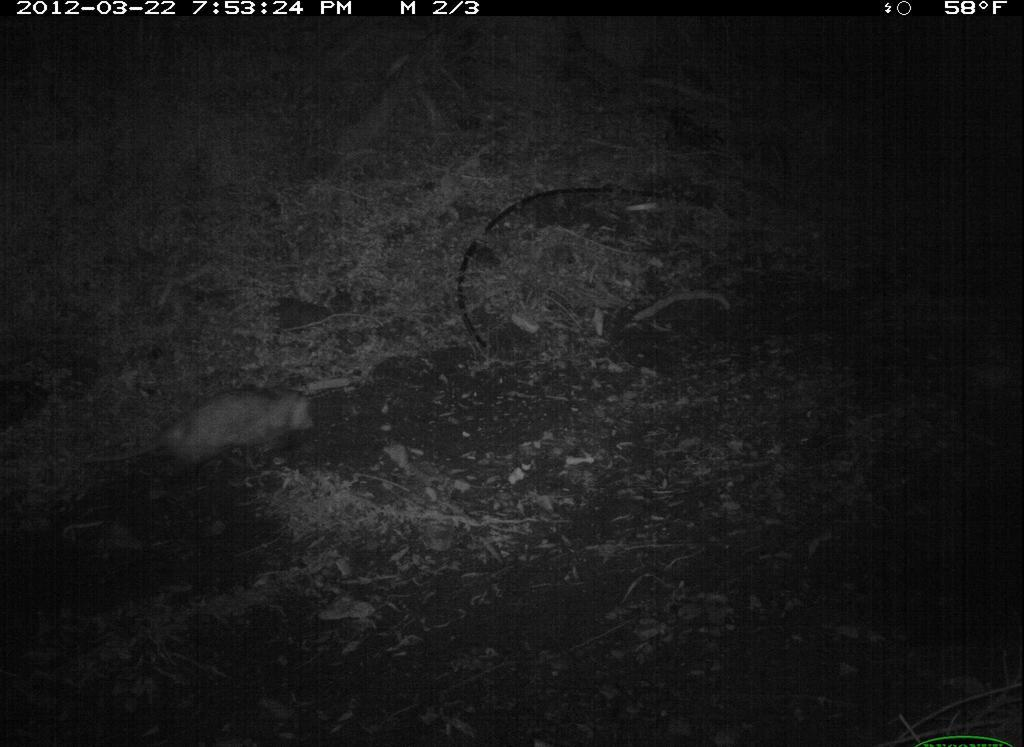opossum: (82, 386, 324, 495)
